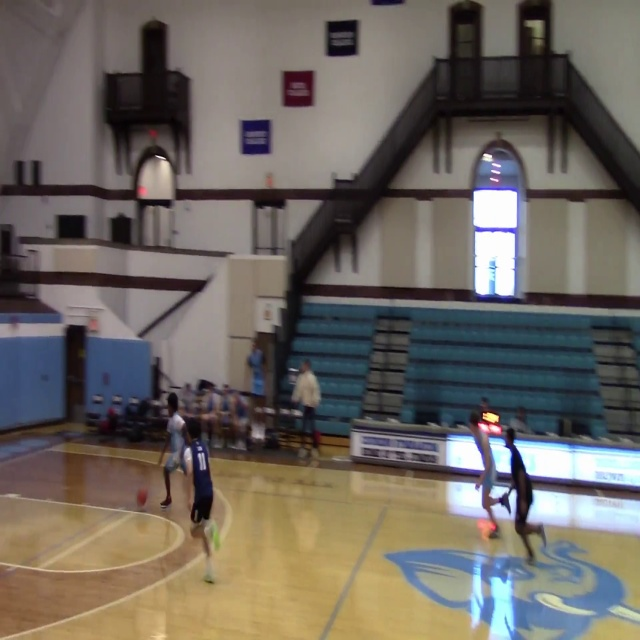Basketball: (477, 518, 497, 539), (136, 487, 148, 506)
